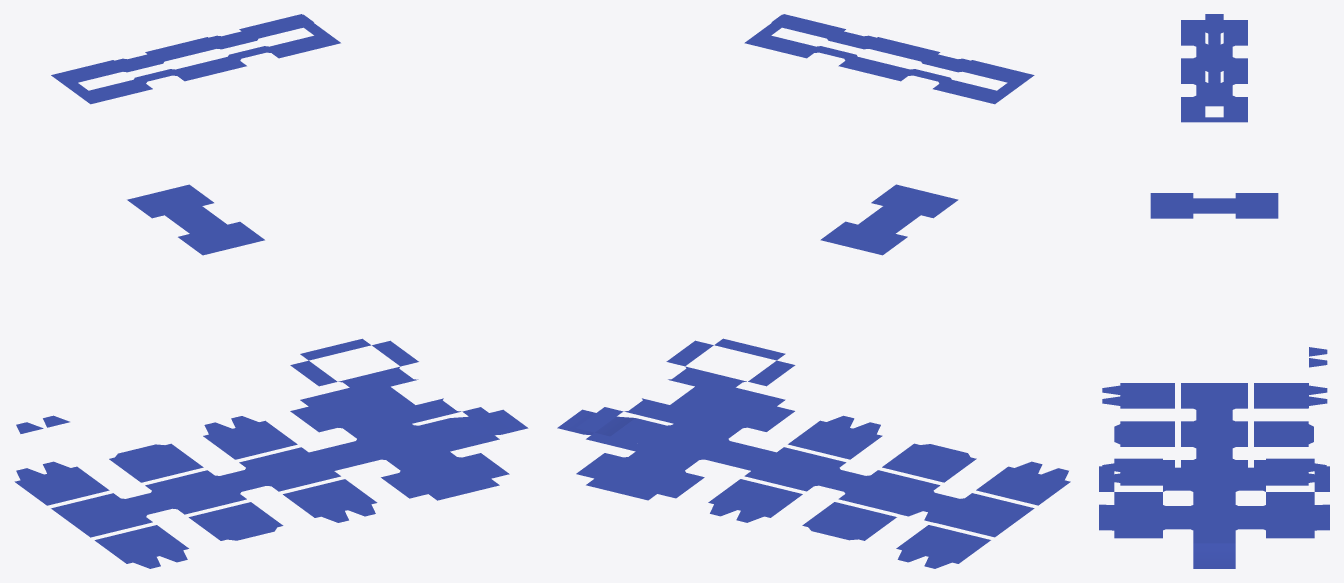
File: cluster3.fbx
3 renders of one model, left to right at view 1: azimuth 30°, elevation 25°; view 2: azimuth 150°, elevation 25°; view 3: azimuth 270°, elevation 25°, orthographic. The views are drawn at different scales.
Parts seen in each view (by area): view 1: cluster3; view 2: cluster3; view 3: cluster3.
Part boxes in pixels (box(x1,y1,x2,y2)): cluster3: box(14, 14, 528, 568); cluster3: box(557, 14, 1070, 568); cluster3: box(1099, 14, 1329, 568).
Bounding box in the file's own units: 120631 × 116726 × 64562.
